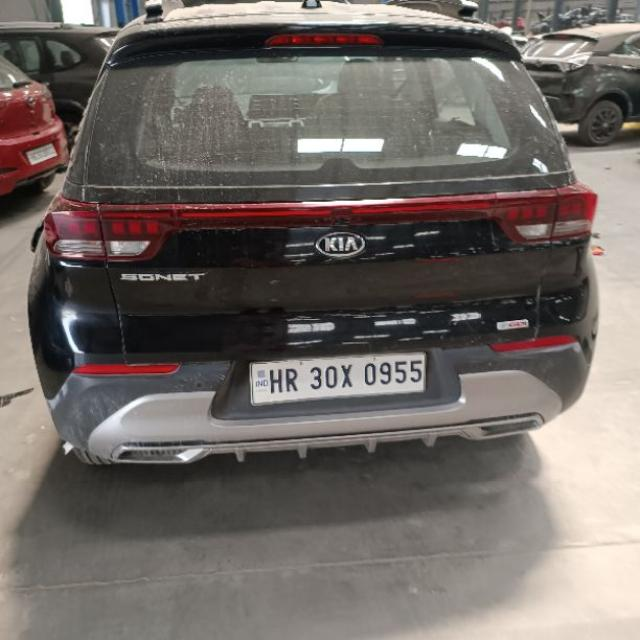license_plate: (247, 349, 428, 406)
